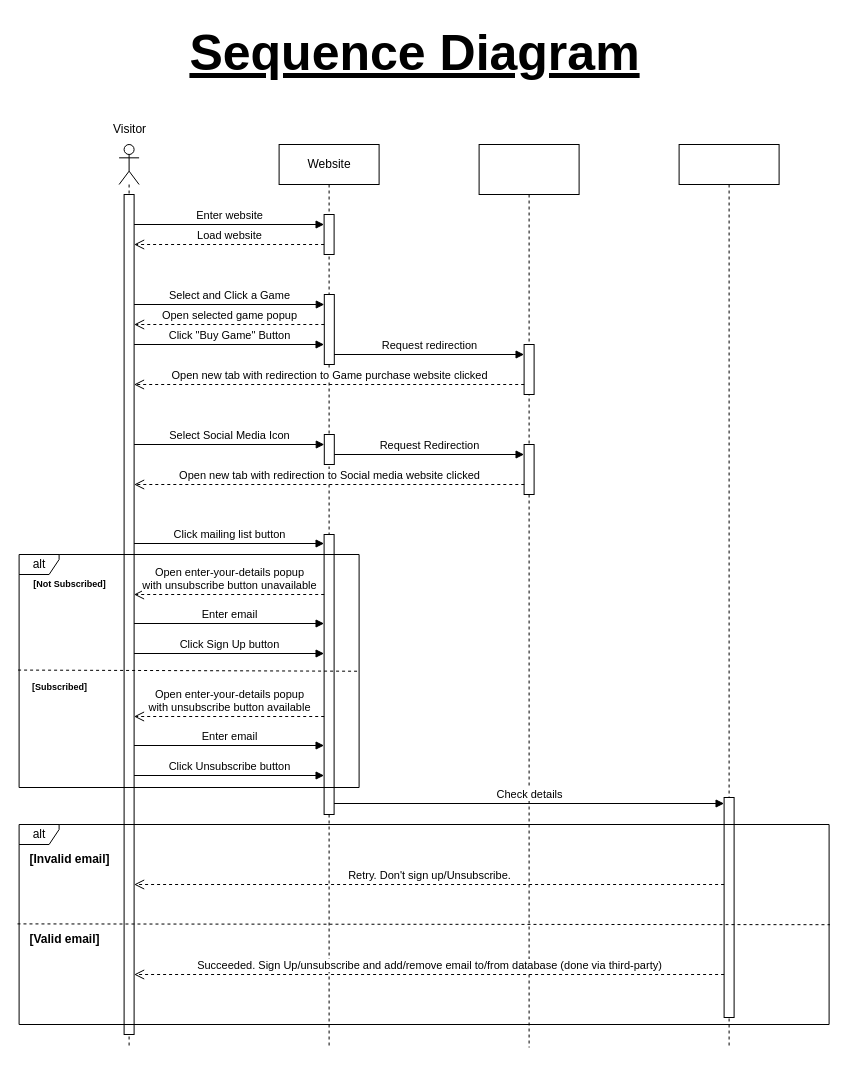
Image size: 849x1065. Some labels were removed from this diagram. Here are the shapes that lost their labels. From the top down, the box of each, then its label:
(478, 144, 579, 1048): External website (e.g.Social media, games platform )
(678, 144, 779, 1048): Third-party mailing system
